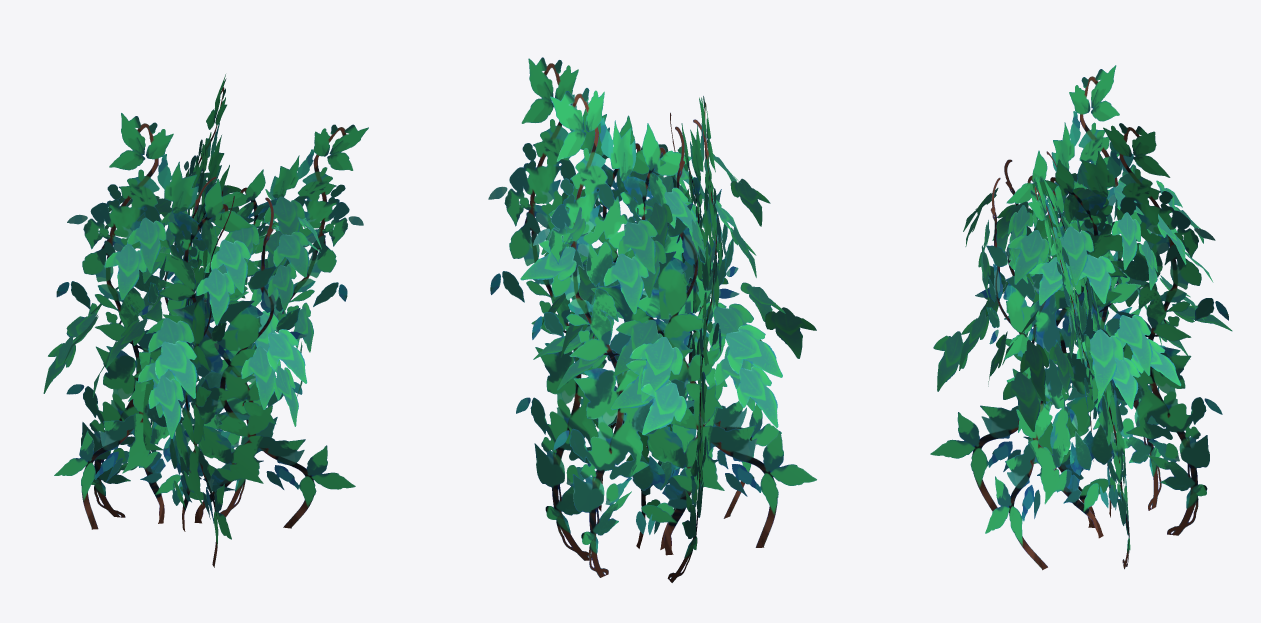
The model's file is M_Bush3.FBX.
3 renders of one model, left to right at view 1: azimuth 30°, elevation 25°; view 2: azimuth 150°, elevation 25°; view 3: azimuth 270°, elevation 25°, orthographic. The views are drawn at different scales.
Visible parts, largest first — view 1: Object485; view 2: Object485; view 3: Object485.
Boxes of the visible parts, x1=… form: Object485: x1=43, y1=74, x2=368, y2=567; Object485: x1=488, y1=57, x2=816, y2=582; Object485: x1=930, y1=65, x2=1232, y2=570.
Bounding box in the file's own units: 224 × 265 × 172.
